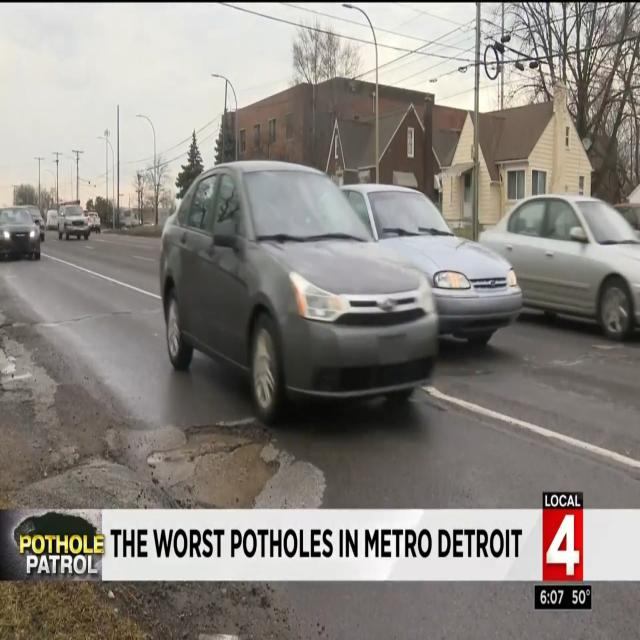Potholes: (133, 423, 286, 512)
